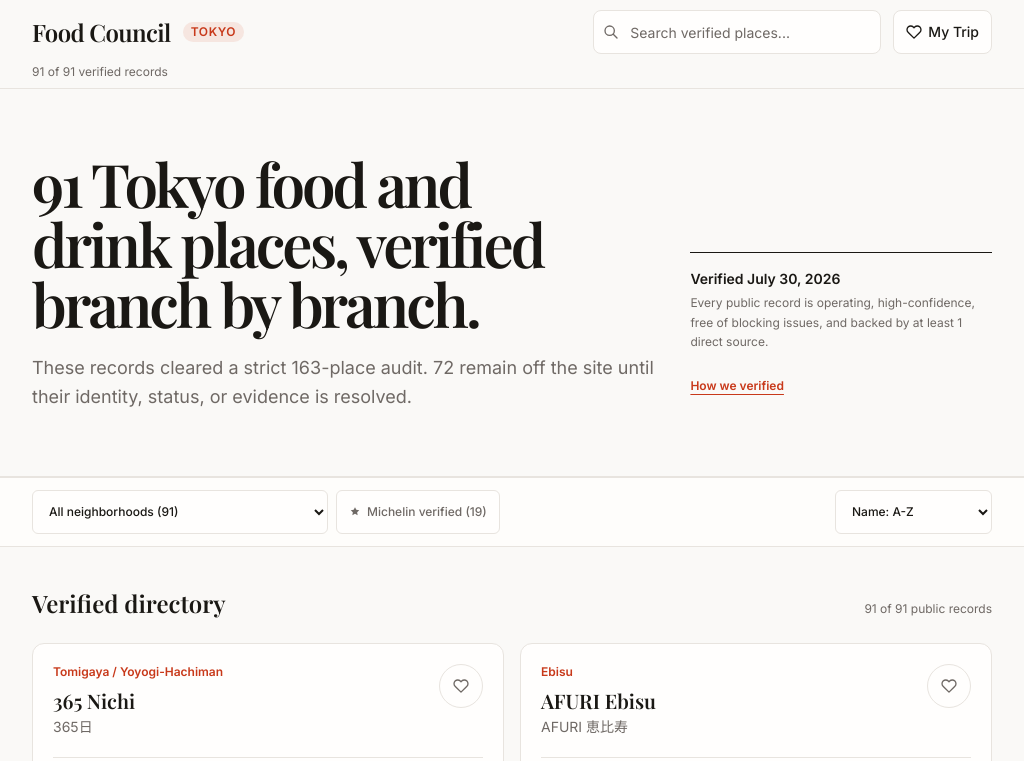
Test case: verified filter state › clears an empty search without leaving hidden state behind
The image size is (1024, 761).
Type "no verified place has this name" into the search field labelled "Search verified places".
click(737, 32); type("no verified place has this name")  # box [593,10,881,54]
(page scrolled)
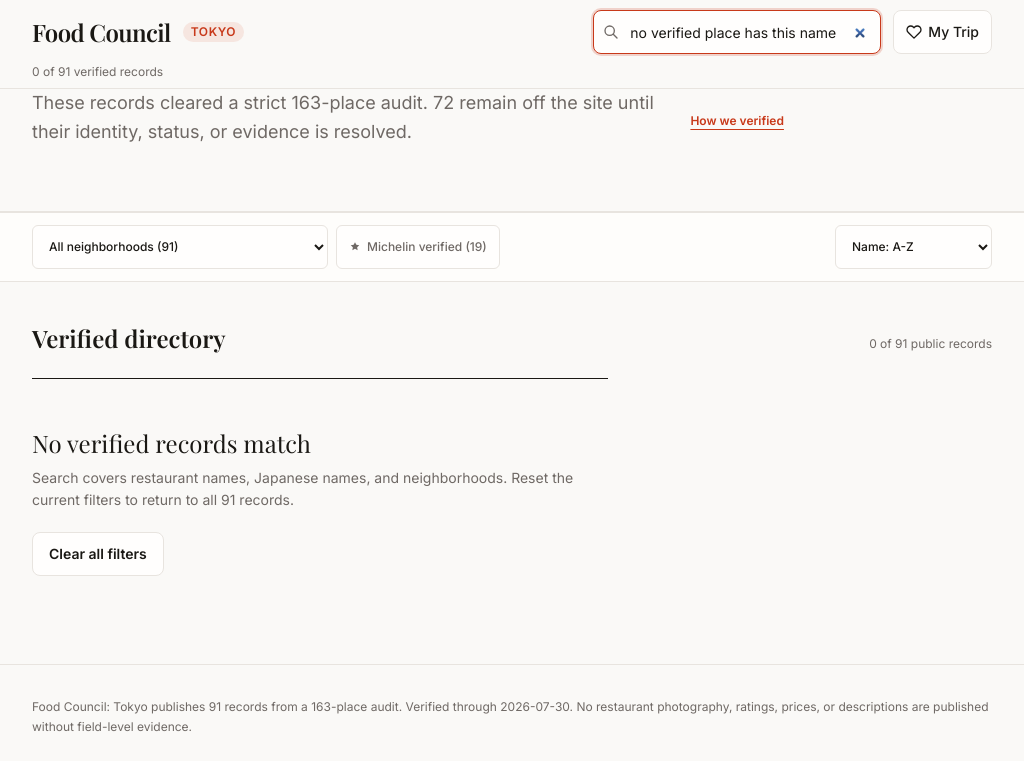
Now the heading "No verified records match" is shown, box [32,426,311,458]
Click the button "Clear all filters".
click(98, 554)  # box [32,532,164,576]
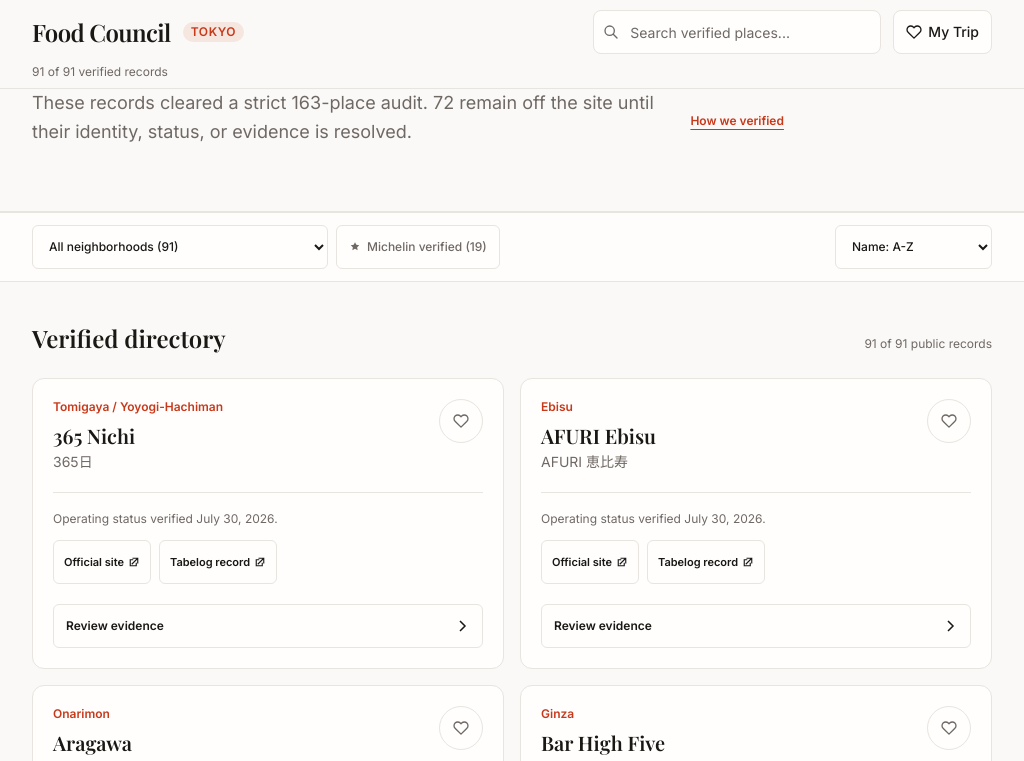
Now the heading "No verified records match" is gone
Now the text "91 of 91 verified records" is shown, box [32,64,168,80]
Now the search field labelled "Search verified places" is empty, box [593,10,881,54]
